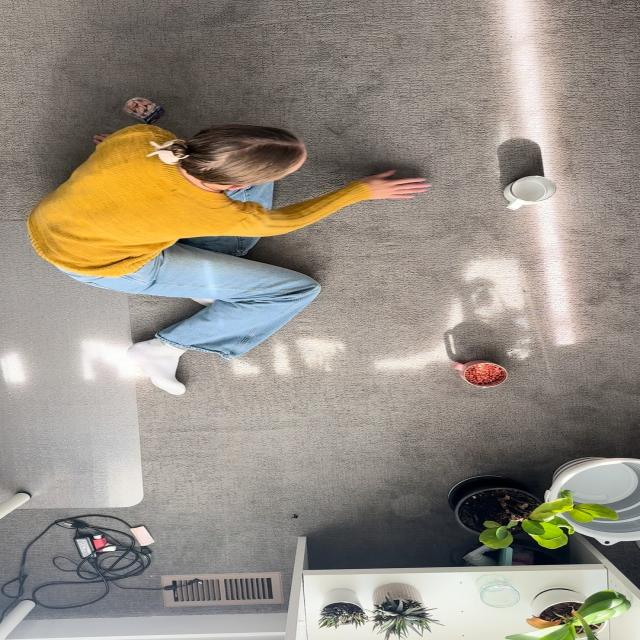IBC: (503, 176, 555, 210), (451, 360, 507, 388)
